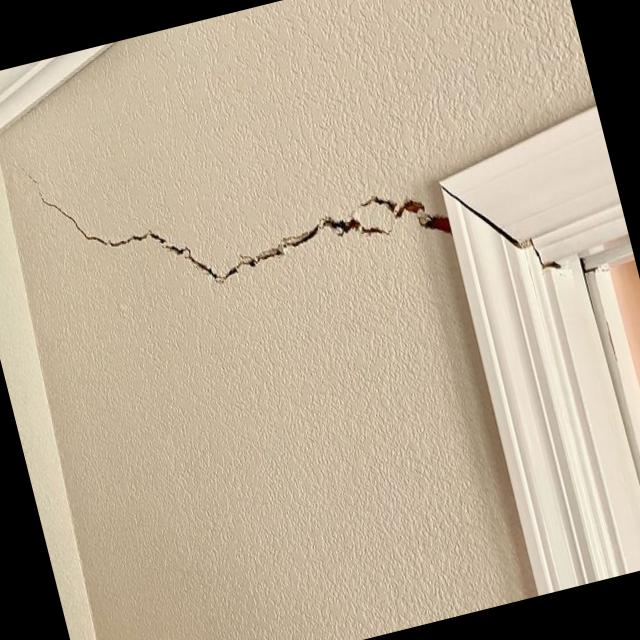crack: (15, 78, 456, 341)
